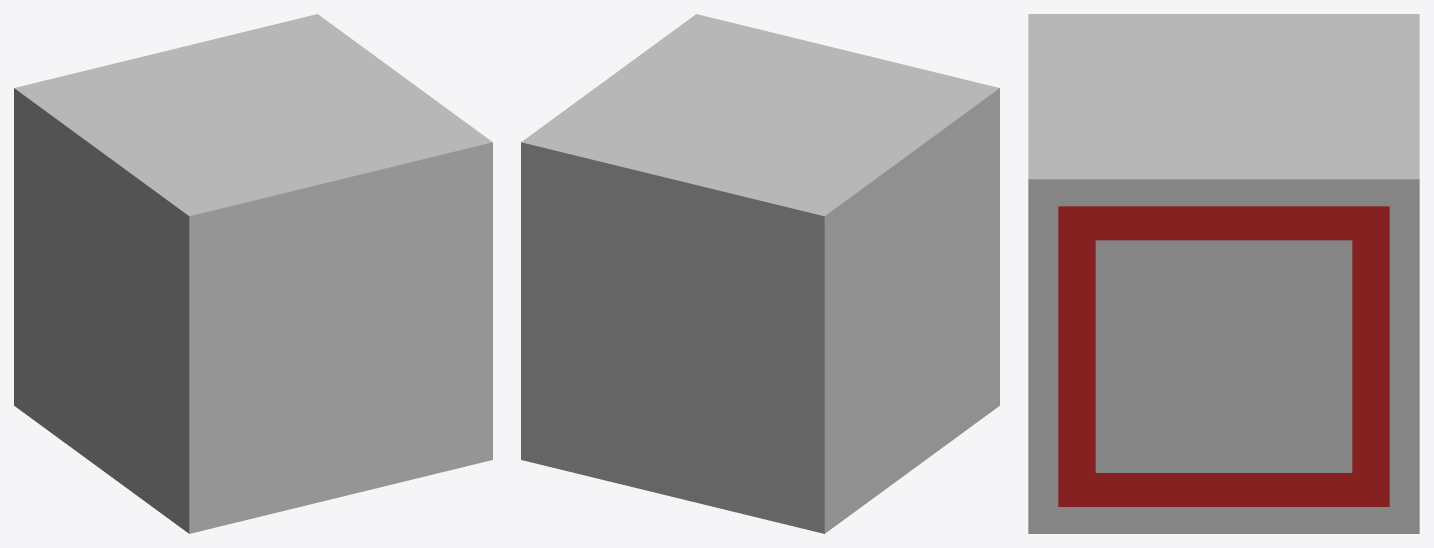
File: rocnikovka trojuhelniky prvek 1.fbx
3 views of the same model, side by side, from view 1: azimuth 30°, elevation 25°; view 2: azimuth 150°, elevation 25°; view 3: azimuth 270°, elevation 25° (orthographic). The views are drawn at different scales.
Visible parts, largest first — view 1: Cube; view 2: Cube; view 3: Cube.
Boxes of the visible parts, x1,y1,x2,y2 form: Cube: [14, 14, 492, 533]; Cube: [521, 14, 999, 533]; Cube: [1028, 14, 1419, 533].
Bounding box in the file's own units: 200 × 200 × 200.
